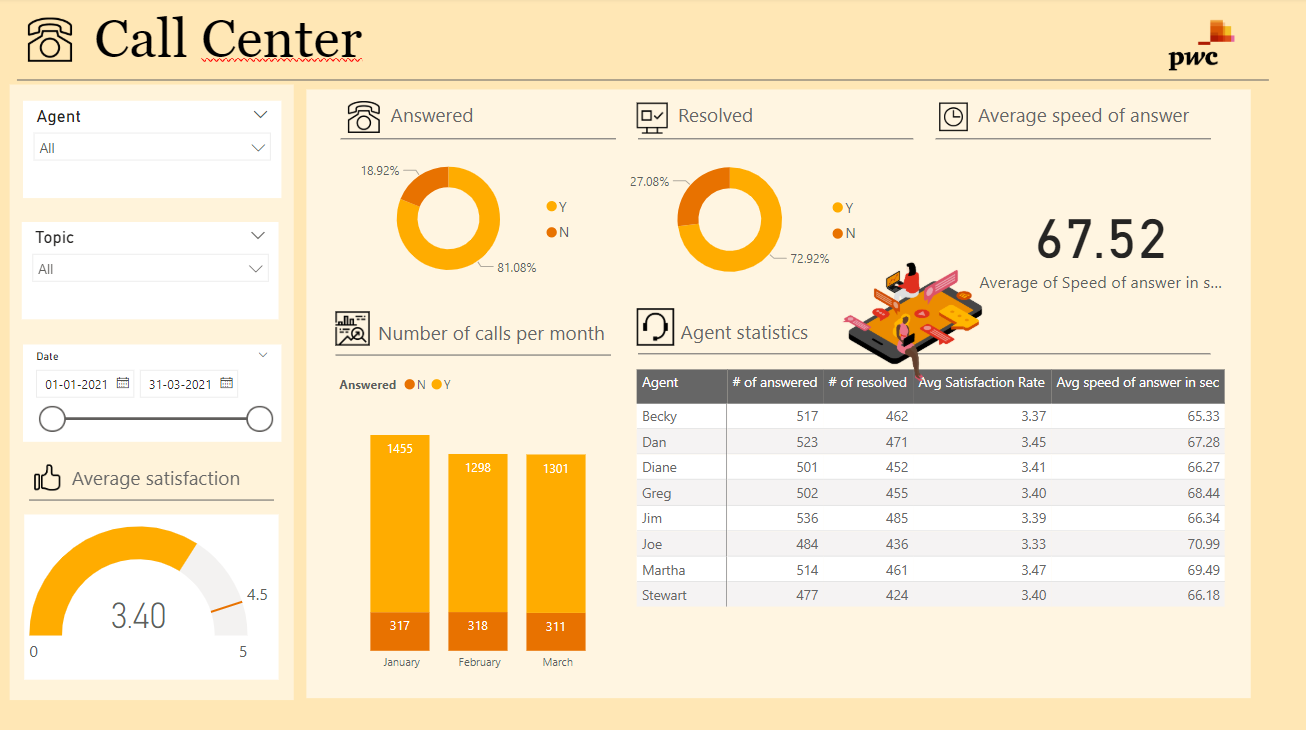

Layout of this report page (visuals, bound fields, positions):
{"tool":"powerbi","page":{"name":"Call Center Manager","canvas":[1280,720],"ordinal":0},"visuals":[{"type":"textbox","box":[89.7,4.8,1172,75.2],"z":0},{"type":"basicShape","box":[9,61,1244.3,40.1],"z":1000},{"type":"basicShape","box":[8.7,80.1,283.6,614.4],"z":2000},{"type":"basicShape","box":[292.6,83.8,942.7,607.6],"z":3000},{"type":"image","box":[1101.6,0,151.6,94.7],"z":4000},{"type":"image","box":[24.1,7.7,53.1,68.5],"z":5000},{"type":"columnChart","fields":{"Category":["Call Center.Date.Variation.Date Hierarchy.Month"],"Y":["CountNonNull(Call Center.Call Id)"],"Series":["Call Center.Answered (Y/N)"]},"box":[329.5,359.7,284.8,308.3],"z":6000},{"type":"slicer","fields":{"Values":["Call Center.Date"]},"box":[24.6,339.5,252.4,94.9],"z":7000},{"type":"pivotTable","fields":{"Rows":["Call Center.Agent"],"Values":["Call Center.# of answered","Call Center.# of resolved","Avg(Call Center.Satisfaction rating)","Avg(Call Center.Speed of answer in seconds)"]},"box":[619.9,359.7,607.6,279.2],"z":8000},{"type":"slicer","fields":{"Values":["Call Center.Agent"]},"box":[24.6,101.6,252.4,95],"z":9000},{"type":"slicer","fields":{"Values":["Call Center.Topic"]},"box":[23.5,220.6,251.3,94.9],"z":10000},{"type":"donutChart","fields":{"Category":["Call Center.Resolved"],"Y":["CountNonNull(Call Center.Resolved)"]},"box":[611,143,242.4,149.7],"z":11000},{"type":"gauge","fields":{"Y":["Avg(Call Center.Satisfaction rating)"],"MaxValue":["Max(Call Center.Satisfaction rating)"],"TargetValue":["Call Center.Target Value Satisfaction"]},"box":[25.7,506,249.1,162],"z":12000},{"type":"image","box":[31.1,452.4,35.7,35.7],"z":13000},{"type":"textbox","box":[66.8,452.4,188.1,35.7],"z":14000},{"type":"basicShape","box":[21.2,472.5,259.1,40.2],"z":15000},{"type":"donutChart","fields":{"Category":["Call Center.Answered (Y/N)"],"Y":["CountNonNull(Call Center.Answered (Y/N))"]},"box":[341.8,141.8,232.3,149.7],"z":16000},{"type":"textbox","box":[378.6,98.3,172,35.7],"z":17000},{"type":"textbox","box":[660.1,98.3,183.2,35.7],"z":18000},{"type":"card","fields":{"Values":["Avg(Call Center.Speed of answer in seconds)"]},"box":[954.1,148.9,250.4,181.3],"z":19000},{"type":"basicShape","box":[906.9,118.4,289.3,40.2],"z":20000},{"type":"textbox","box":[953.9,98.3,250.2,35.7],"z":21000},{"type":"basicShape","box":[325,118.4,289,40.2],"z":22000},{"type":"basicShape","box":[616,118.4,289,40.2],"z":23000},{"type":"image","box":[915.9,88.2,38,59.2],"z":24000},{"type":"image","box":[337.3,94.9,41.3,43.6],"z":25000},{"type":"image","box":[619.9,88.2,40.2,61.4],"z":26000},{"type":"textbox","box":[367.4,310.5,250.2,35.7],"z":27000},{"type":"basicShape","box":[320.5,330.6,289.3,40.2],"z":28000},{"type":"textbox","box":[663.4,309.3,250.2,35.7],"z":29000},{"type":"basicShape","box":[616.5,329.5,579.7,40.2],"z":30000},{"type":"image","box":[619.9,294.9,46.9,55.8],"z":31000},{"type":"image","box":[325,290.4,43.6,69.2],"z":32000},{"type":"image","box":[764.6,216.5,278.8,186.8],"z":33000}]}

Visuals, with their boxes in screenshot pixels (x1, y1, x2, y2), scaled from the page's 1280x720 canvas onto the 1306x730 screenshot:
textbox: [x1=92, y1=5, x2=1287, y2=81]
basicShape: [x1=9, y1=62, x2=1279, y2=103]
basicShape: [x1=9, y1=81, x2=298, y2=704]
basicShape: [x1=299, y1=85, x2=1260, y2=701]
image: [x1=1124, y1=0, x2=1279, y2=96]
image: [x1=25, y1=8, x2=79, y2=77]
columnChart - Call Center.Date.Variation.Date Hierarchy.Month x CountNonNull(Call Center.Call Id): [x1=336, y1=365, x2=627, y2=677]
slicer - Call Center.Date: [x1=25, y1=344, x2=283, y2=440]
pivotTable - Call Center.Agent x Call Center.# of answered: [x1=632, y1=365, x2=1252, y2=648]
slicer - Call Center.Agent: [x1=25, y1=103, x2=283, y2=199]
slicer - Call Center.Topic: [x1=24, y1=224, x2=280, y2=320]
donutChart - Call Center.Resolved x CountNonNull(Call Center.Resolved): [x1=623, y1=145, x2=871, y2=297]
gauge - Avg(Call Center.Satisfaction rating) x Max(Call Center.Satisfaction rating): [x1=26, y1=513, x2=280, y2=677]
image: [x1=32, y1=459, x2=68, y2=495]
textbox: [x1=68, y1=459, x2=260, y2=495]
basicShape: [x1=22, y1=479, x2=286, y2=520]
donutChart - Call Center.Answered (Y/N) x CountNonNull(Call Center.Answered (Y/N)): [x1=349, y1=144, x2=586, y2=296]
textbox: [x1=386, y1=100, x2=562, y2=136]
textbox: [x1=674, y1=100, x2=860, y2=136]
card - Avg(Call Center.Speed of answer in seconds): [x1=973, y1=151, x2=1229, y2=335]
basicShape: [x1=925, y1=120, x2=1220, y2=161]
textbox: [x1=973, y1=100, x2=1229, y2=136]
basicShape: [x1=332, y1=120, x2=626, y2=161]
basicShape: [x1=629, y1=120, x2=923, y2=161]
image: [x1=935, y1=89, x2=973, y2=149]
image: [x1=344, y1=96, x2=386, y2=140]
image: [x1=632, y1=89, x2=674, y2=152]
textbox: [x1=375, y1=315, x2=630, y2=351]
basicShape: [x1=327, y1=335, x2=622, y2=376]
textbox: [x1=677, y1=314, x2=932, y2=350]
basicShape: [x1=629, y1=334, x2=1220, y2=375]
image: [x1=632, y1=299, x2=680, y2=356]
image: [x1=332, y1=294, x2=376, y2=365]
image: [x1=780, y1=220, x2=1065, y2=409]
